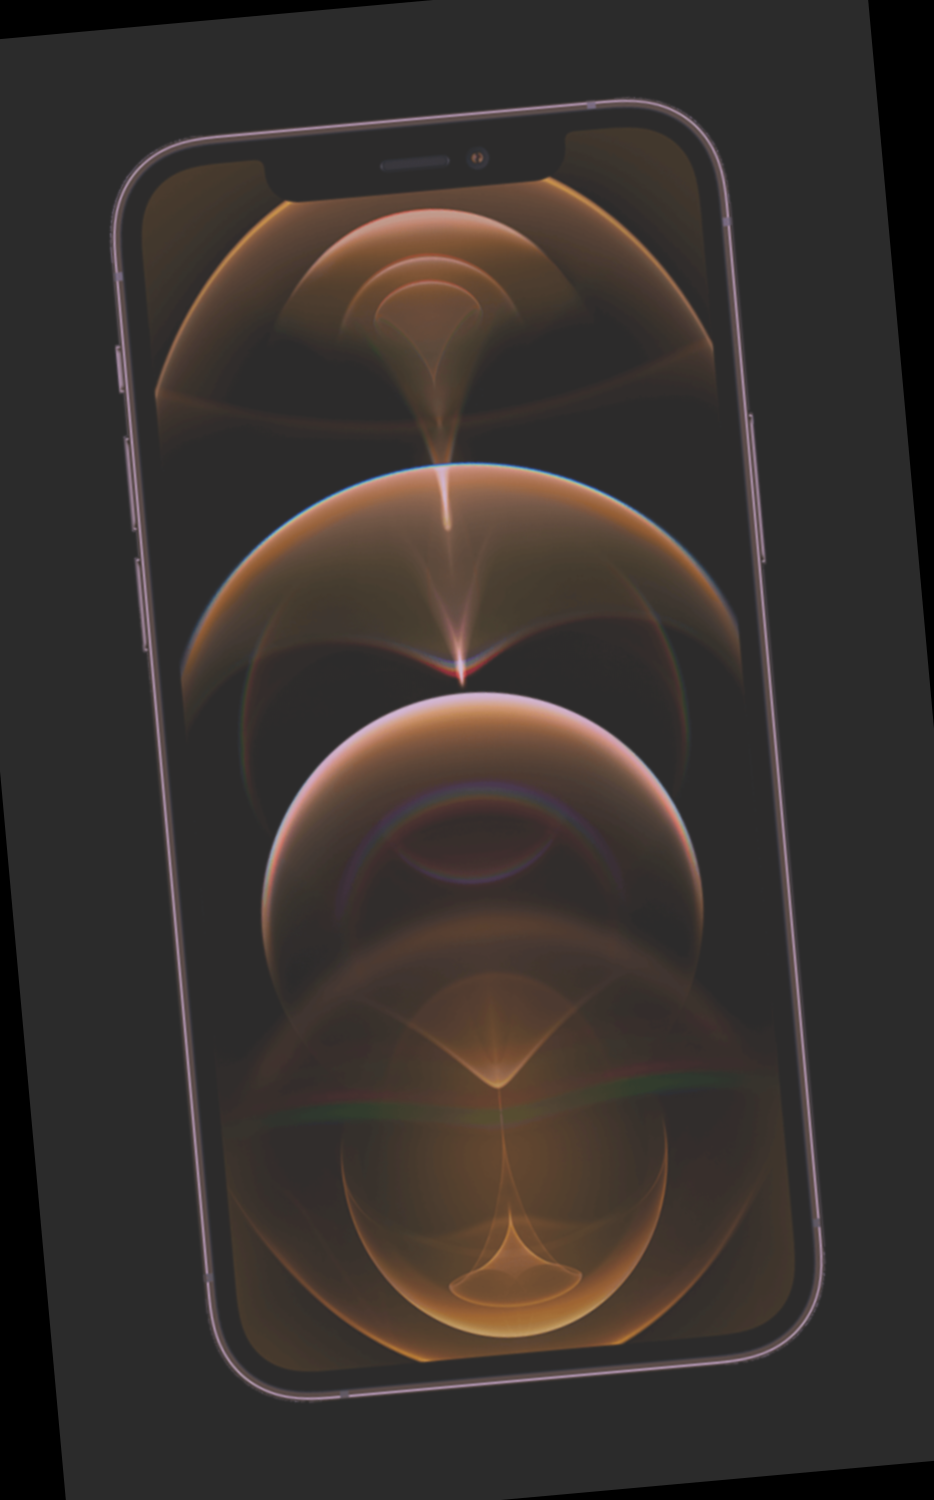iphone: (152, 114, 782, 1387)
